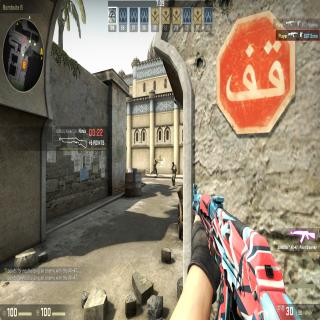CT-Body: (171, 160, 176, 187), (152, 158, 158, 175)
CT-Head: (172, 160, 174, 166), (154, 158, 157, 162)
